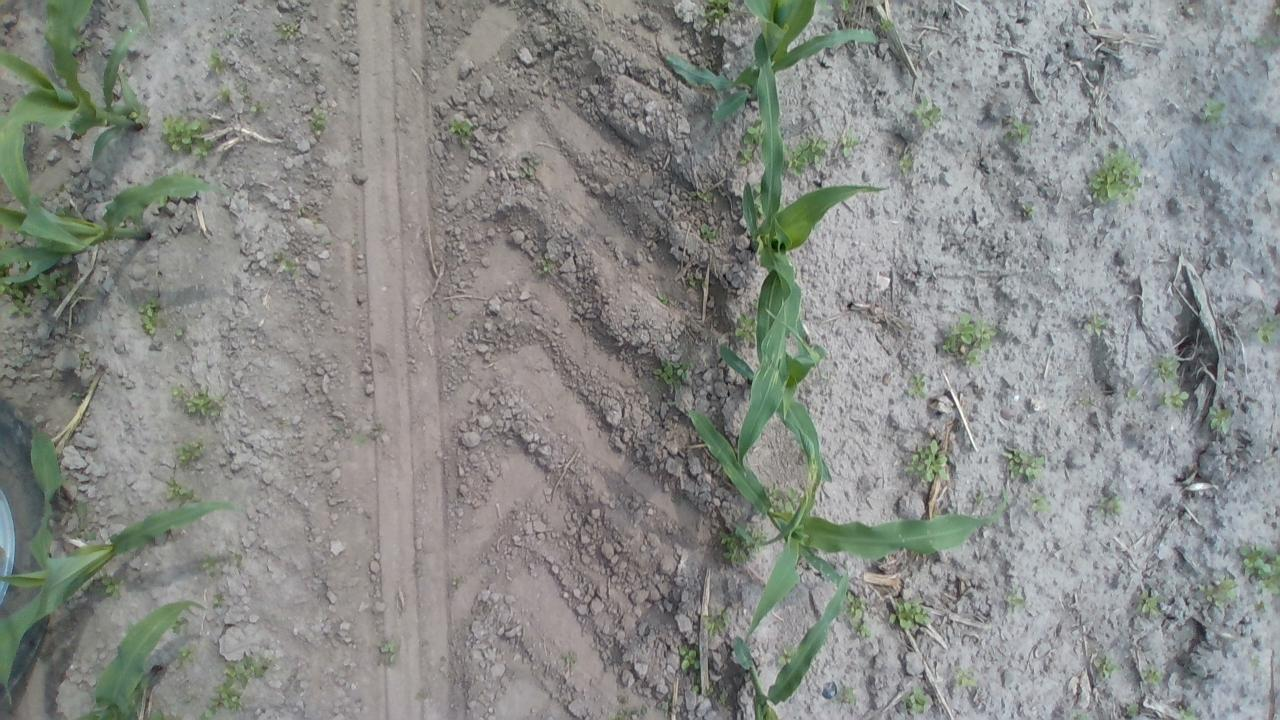Maize: (0, 428, 247, 708), (682, 410, 1008, 594), (736, 31, 892, 364), (0, 1, 155, 216), (716, 270, 834, 549), (0, 174, 246, 288), (713, 2, 884, 122), (736, 564, 855, 720), (80, 600, 208, 720)
Weeds: (940, 314, 999, 368), (1088, 148, 1144, 204), (160, 114, 216, 160), (715, 521, 767, 567), (168, 383, 226, 423), (1240, 542, 1276, 600), (906, 439, 950, 483), (786, 132, 826, 180), (1004, 445, 1046, 483), (224, 651, 274, 682), (207, 674, 247, 712), (33, 268, 76, 302), (888, 598, 931, 631), (2, 270, 34, 314), (739, 117, 766, 168), (1198, 576, 1240, 608), (654, 357, 694, 388), (847, 598, 873, 640), (174, 436, 208, 468), (909, 100, 942, 132), (162, 476, 201, 503), (138, 300, 165, 338), (702, 0, 738, 26), (1252, 314, 1278, 349), (1150, 354, 1181, 383), (1206, 403, 1234, 435), (1200, 96, 1228, 128), (92, 571, 123, 598), (772, 487, 804, 513), (1137, 588, 1162, 620), (904, 686, 932, 714), (446, 116, 476, 142), (704, 607, 729, 638), (1009, 116, 1036, 144), (1096, 491, 1124, 518), (734, 310, 756, 344), (269, 251, 298, 276), (676, 643, 701, 672), (1162, 388, 1192, 412), (1094, 650, 1118, 679), (1003, 588, 1028, 614), (378, 639, 402, 665), (276, 21, 302, 45), (840, 128, 860, 159), (206, 47, 228, 74), (518, 153, 540, 180), (201, 552, 223, 578), (1085, 314, 1110, 336), (698, 221, 722, 243), (908, 372, 928, 398), (310, 108, 330, 133), (332, 419, 357, 439), (177, 644, 199, 666), (71, 33, 93, 55), (956, 668, 978, 689), (1031, 494, 1054, 514), (169, 612, 188, 636), (612, 705, 644, 719), (1144, 664, 1164, 686), (776, 646, 797, 666), (126, 106, 150, 123), (1252, 33, 1276, 50), (692, 186, 714, 204), (896, 151, 914, 173), (1175, 703, 1199, 719), (215, 86, 234, 105), (535, 256, 554, 275), (248, 96, 267, 115), (838, 687, 858, 705), (560, 652, 578, 672), (714, 685, 731, 706), (1122, 700, 1142, 717), (1123, 386, 1141, 404), (970, 490, 988, 507), (237, 85, 254, 103), (876, 17, 892, 36), (223, 26, 240, 41), (661, 696, 675, 714), (1020, 204, 1035, 220), (171, 325, 186, 340), (688, 274, 702, 290), (658, 292, 674, 306), (212, 592, 226, 608), (839, 0, 854, 12), (1073, 709, 1091, 719)
